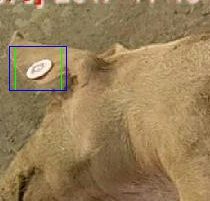text: (15, 46, 61, 90)
